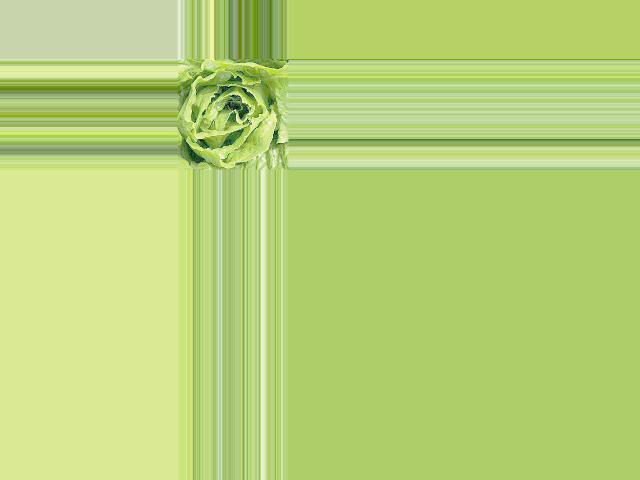lettuce: (178, 60, 289, 168)
